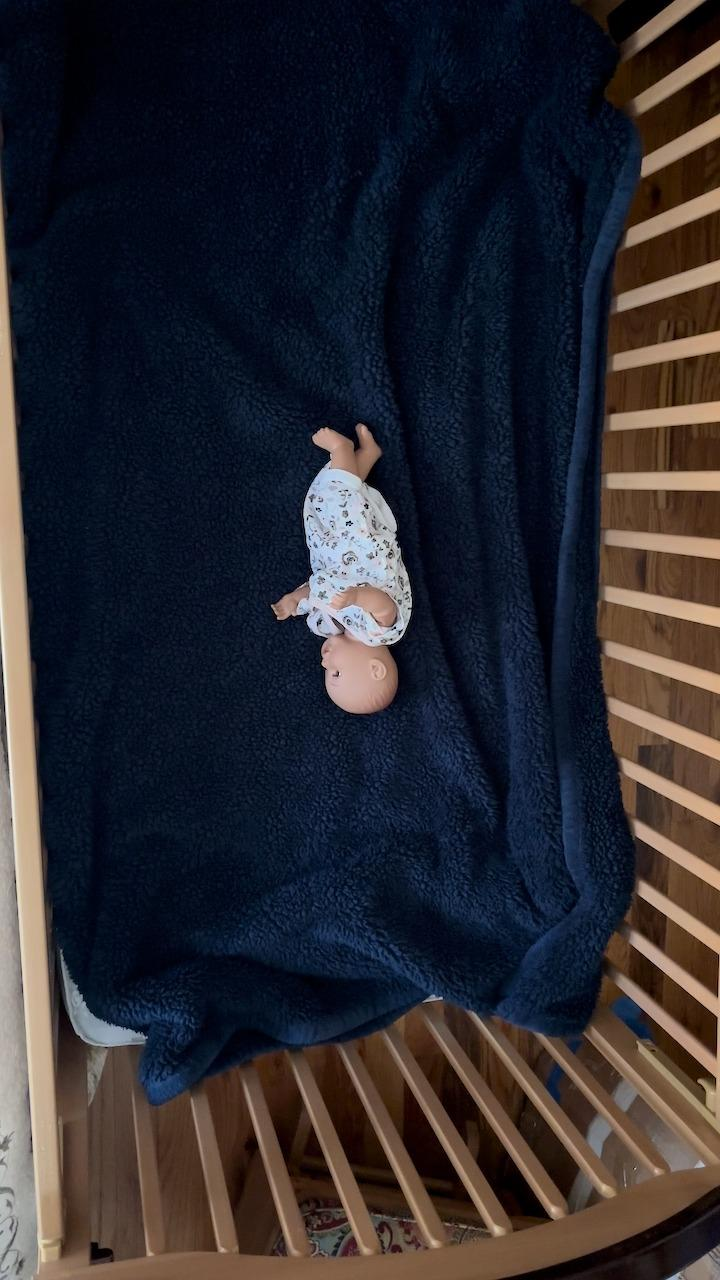baby: (268, 420, 418, 715)
